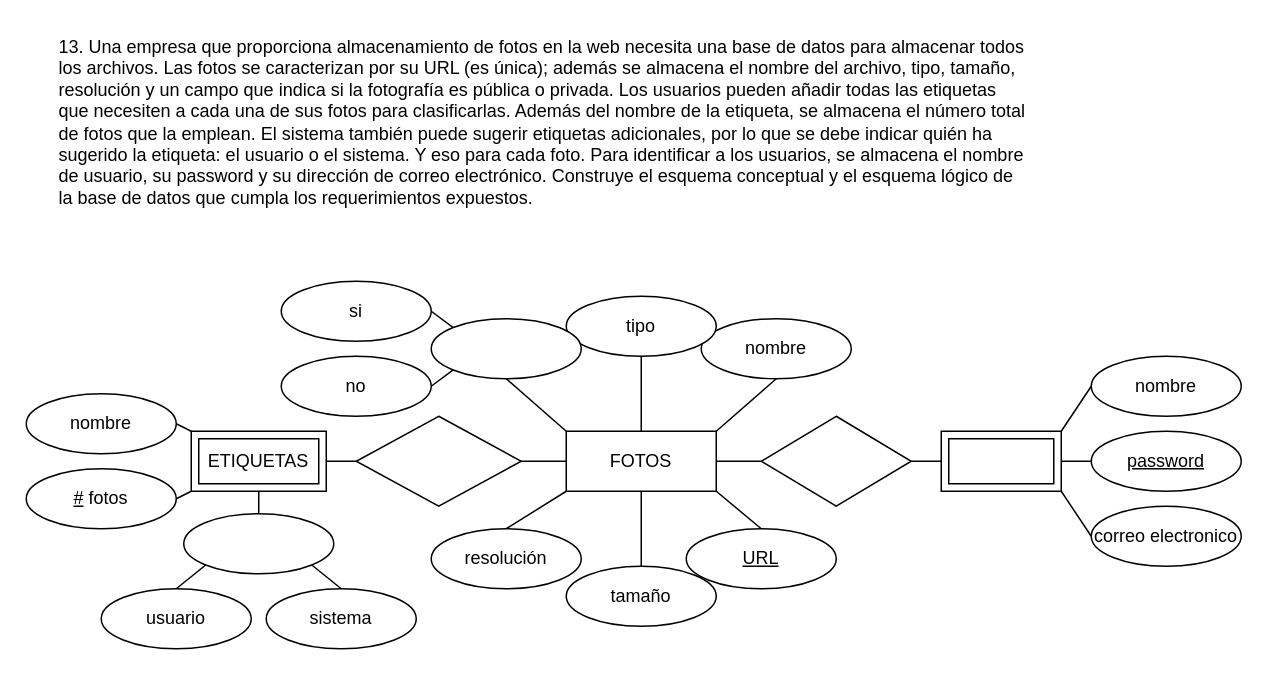
Some shapes in this 1268 by 675 pixel diagram are drawn without their labels. The centre of each missing label's shape, as x and y in pixels:
"decide" goes at (x=438, y=460).
"pertenece 1:N" goes at (x=835, y=460).
"privacidad" goes at (x=505, y=348).
"sugerido" goes at (x=258, y=543).
"USUARIOS" goes at (x=1000, y=460).
